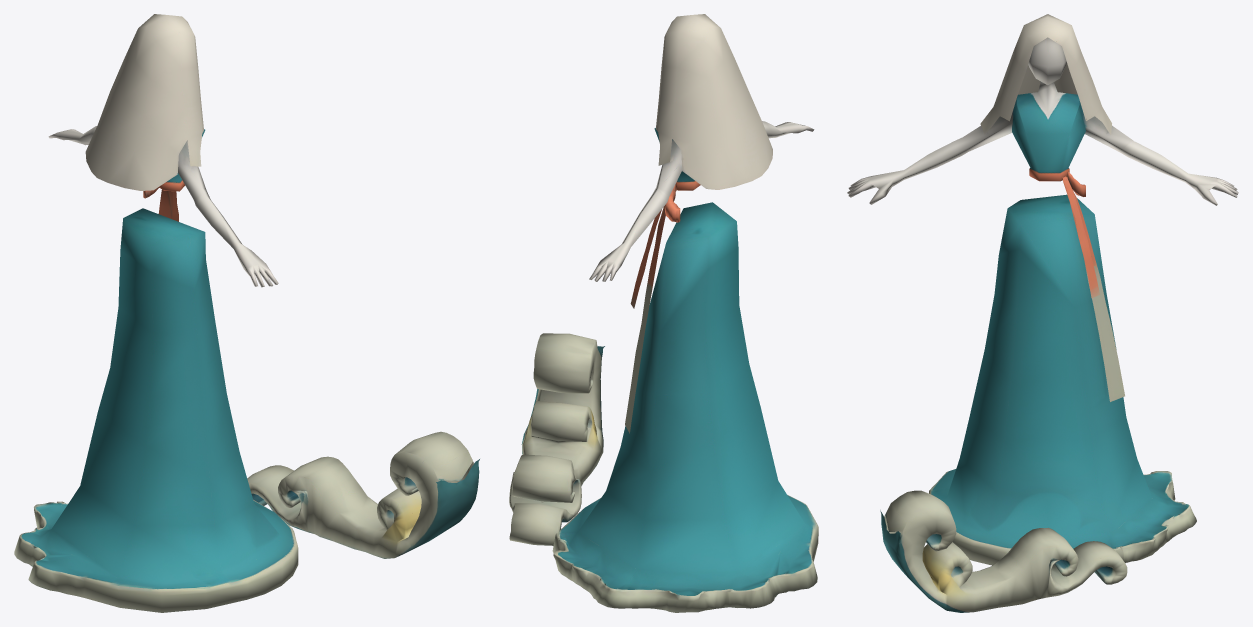
The picture shows the model from 3 angles, left to right: view 1: azimuth 30°, elevation 25°; view 2: azimuth 150°, elevation 25°; view 3: azimuth 270°, elevation 25°; orthographic projection. The views are drawn at different scales.
Parts seen in each view (by area): view 1: tripo_node_765a7864-1930-4bba-aff9-18fa3c6200a1; view 2: tripo_node_765a7864-1930-4bba-aff9-18fa3c6200a1; view 3: tripo_node_765a7864-1930-4bba-aff9-18fa3c6200a1.
Boxes of the visible parts, left/top/right/bottom form: tripo_node_765a7864-1930-4bba-aff9-18fa3c6200a1: left=14, top=14, right=479, bottom=612; tripo_node_765a7864-1930-4bba-aff9-18fa3c6200a1: left=509, top=14, right=818, bottom=612; tripo_node_765a7864-1930-4bba-aff9-18fa3c6200a1: left=847, top=14, right=1238, bottom=612.
Size of the model in its own units: 0.6973 by 0.998 by 0.7012.
1 material, 1 textured.
